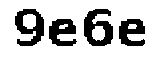6: (81, 3, 116, 52)
9: (9, 5, 46, 48)
e: (116, 16, 151, 53), (48, 18, 80, 51)
